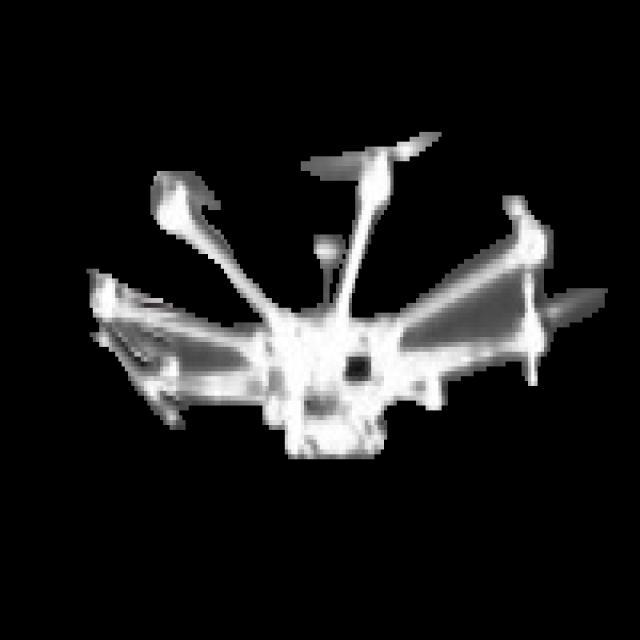drone: (86, 137, 608, 466)
